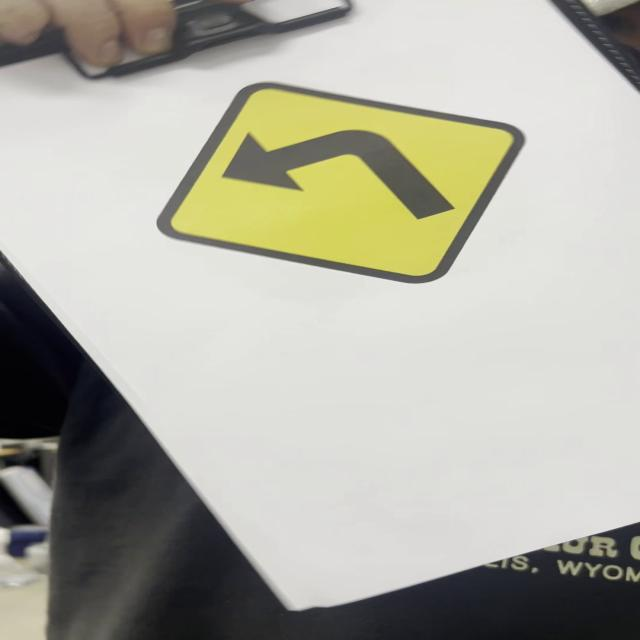left: (155, 81, 527, 286)
